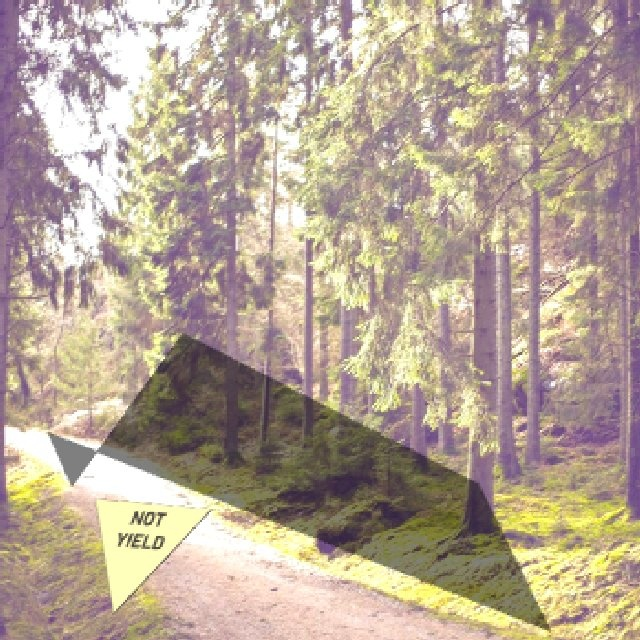NOT_YIELD: (93, 496, 211, 613)
